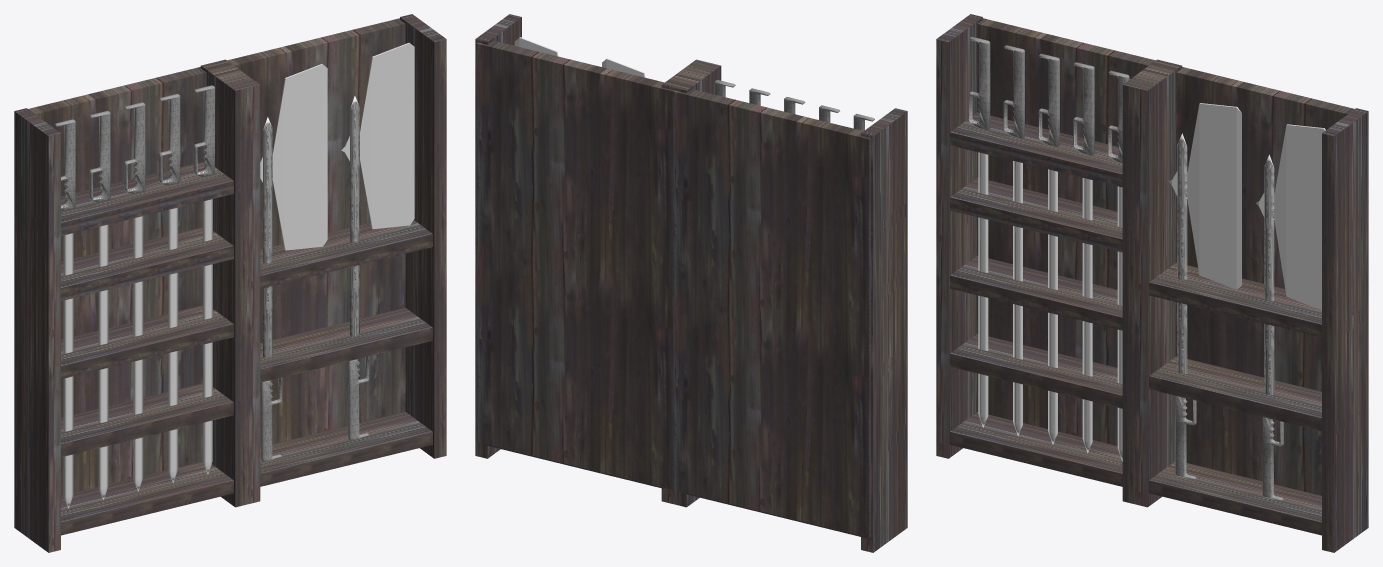
File: weapon rack.fbx
3 renders of one model, left to right at view 1: azimuth 30°, elevation 25°; view 2: azimuth 150°, elevation 25°; view 3: azimuth 330°, elevation 25°, orthographic.
Parts seen in each view (by area): view 1: weapon rack; view 2: weapon rack; view 3: weapon rack.
Part boxes in pixels (x1,y1,x2,y2): weapon rack: [14, 14, 446, 552]; weapon rack: [475, 14, 907, 552]; weapon rack: [936, 14, 1368, 552].
Bounding box in the file's own units: 1600 × 1600 × 250.
